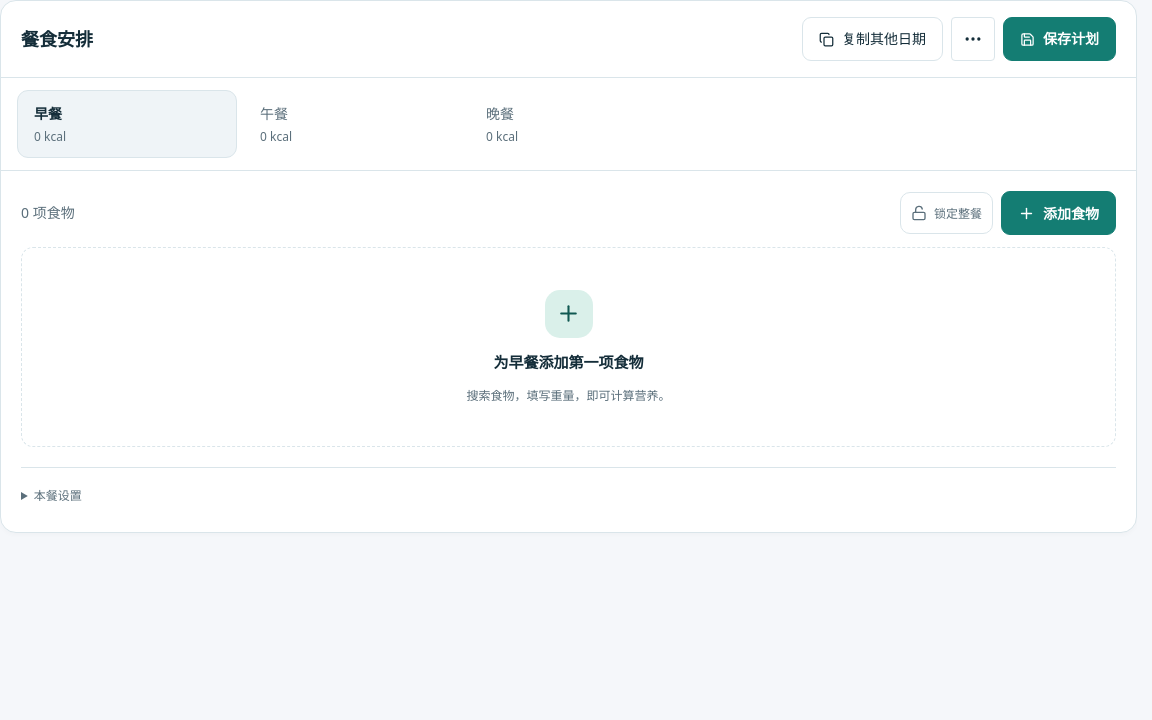
替换被数字校验拒绝时保留弹窗和预览并显示原因
Click the button "复制其他日期": (872, 39) [802,17,943,61]
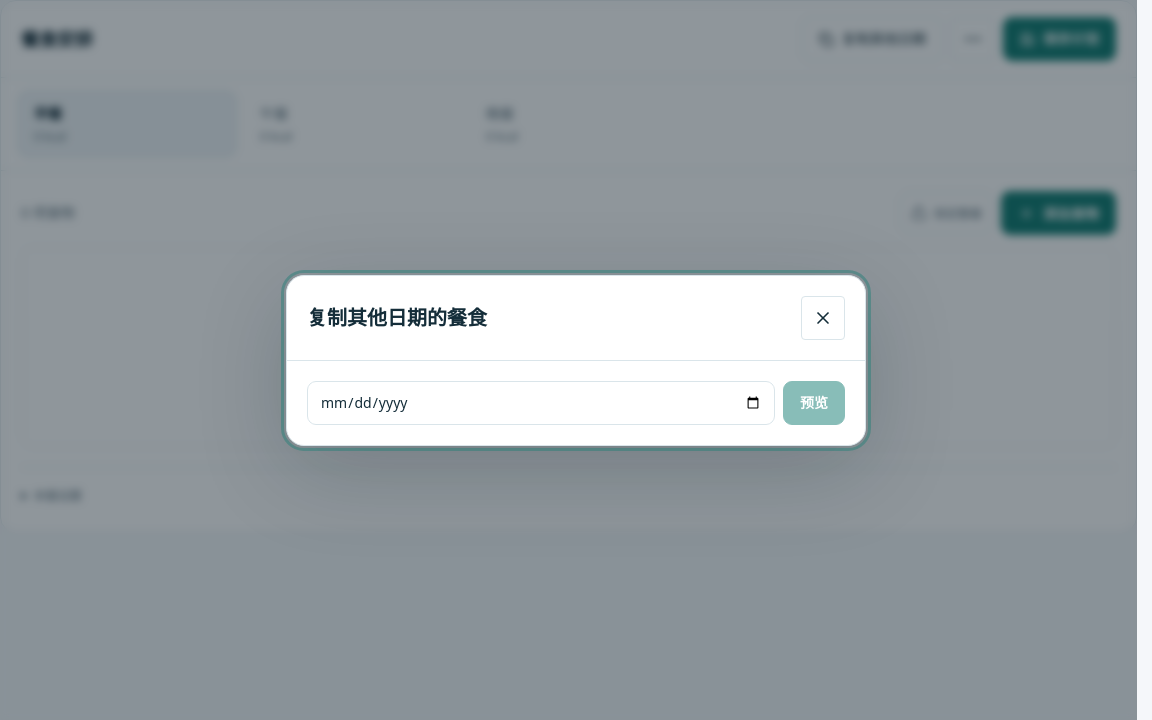
In the date field named "复制来源日期": (541, 402) [307,380,775,424], type "2030-01-01"
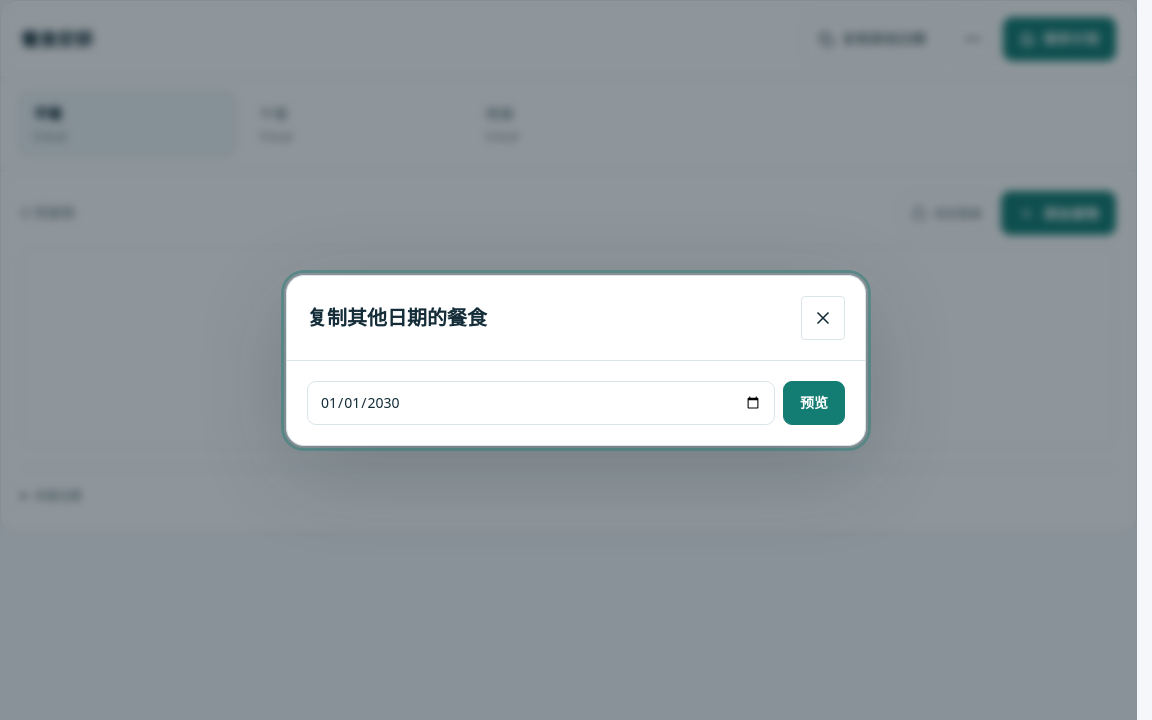
Click the button "预览": (814, 402) [783,380,845,424]
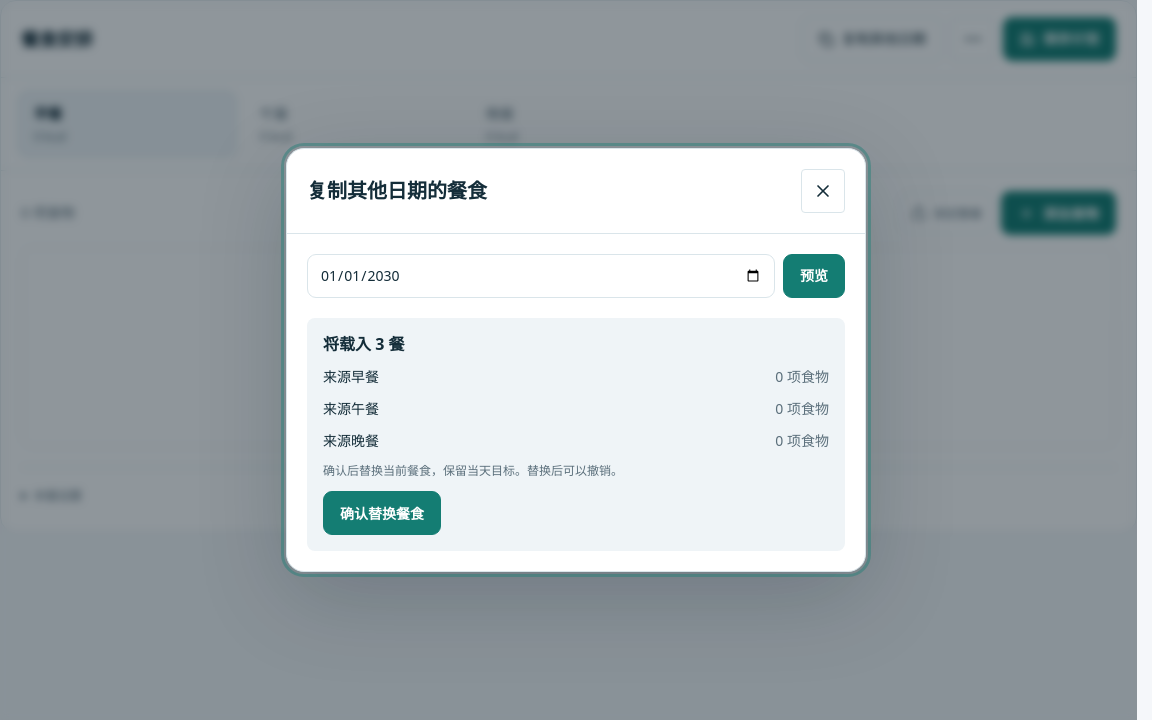
Expected: the heading "将载入 3 餐" is shown, [323,333,404,355]
Click the button "确认替换餐食": (382, 513) [323,491,441,535]
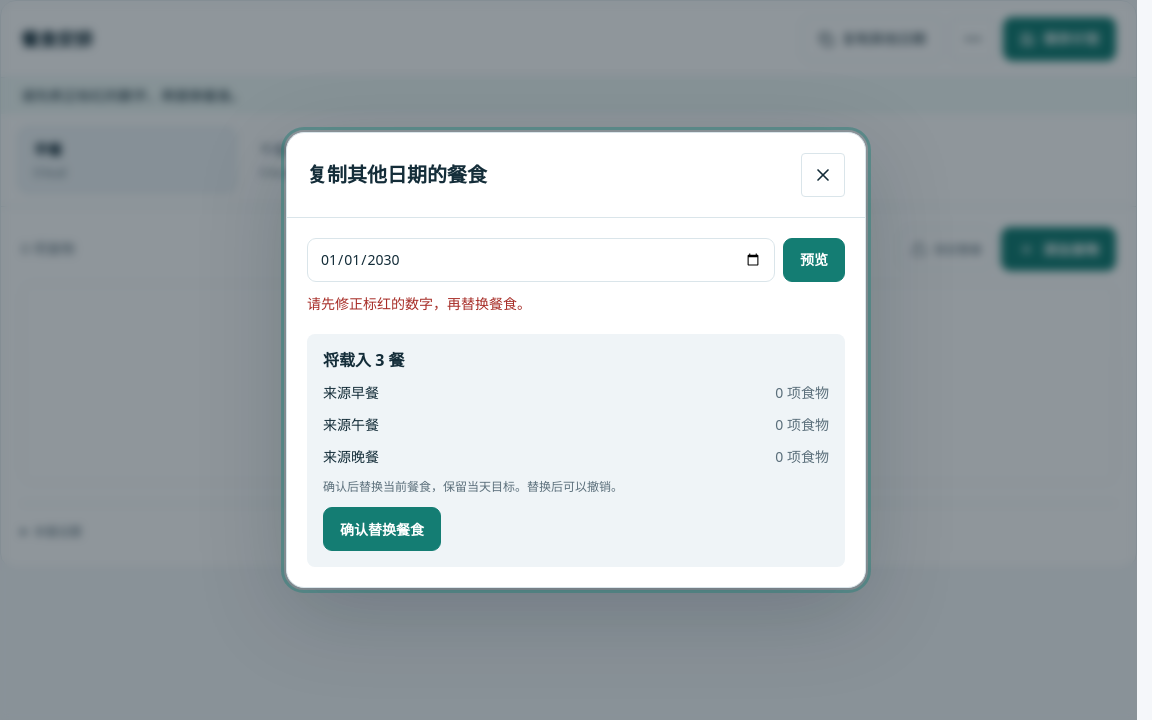
Expected: the dialog is shown, [286,132,866,588]
Expected: the message shows "数字", [307,294,531,313]
